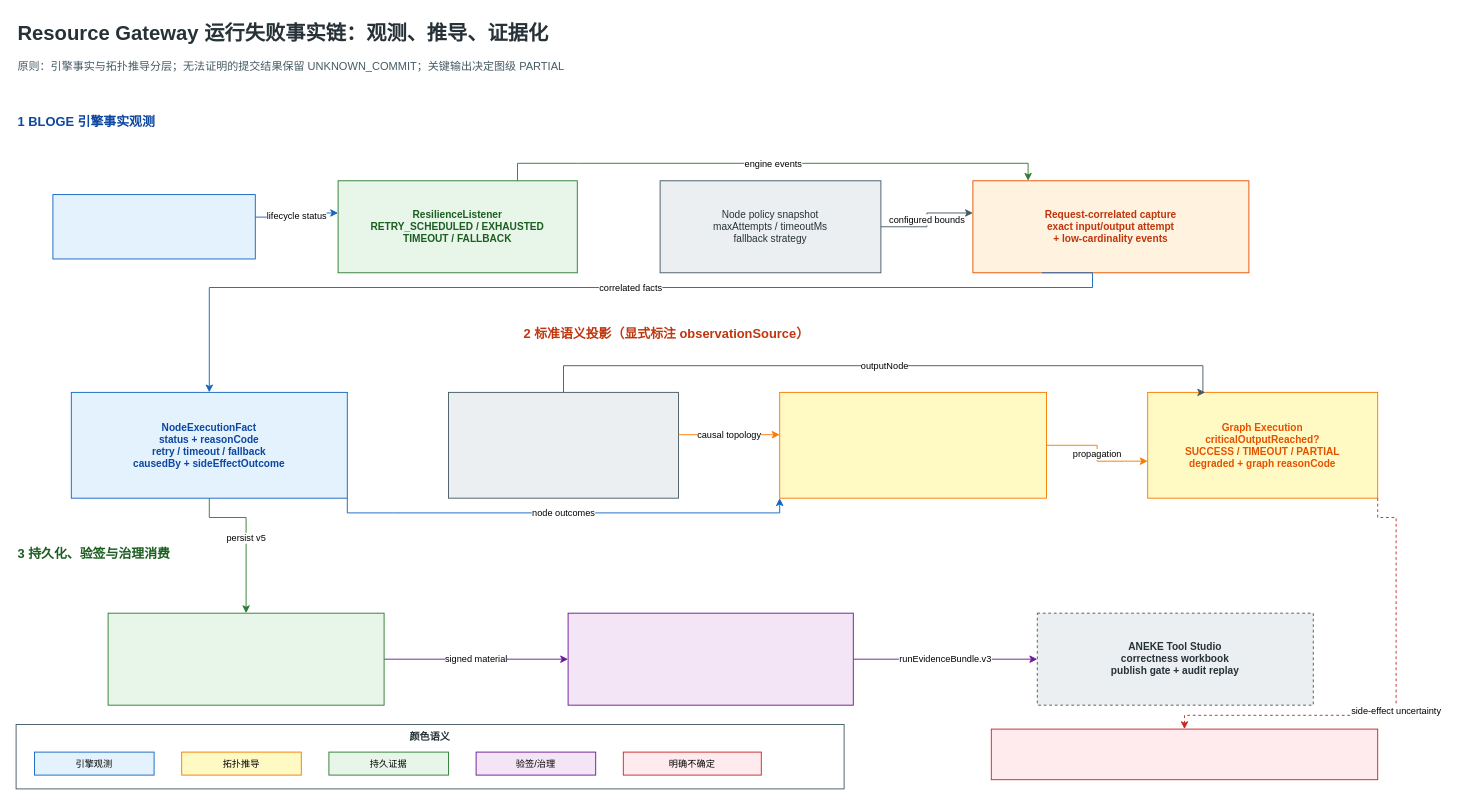
Some shapes in this 1457 by 805 pixel diagram are drawn without their labels. Here are the shapes that lost their labels. From the top down, the centre of each, then its label:
At (x=153, y=226): "BLOGE GraphEngine NodeStatus + GraphResult".
At (x=563, y=444): "Immutable topology snapshot nodes / edges / outputNode".
At (x=912, y=444): "EdgeEvidence propagated? + reasonCode 不把 target timeout 冒充 edge timeout".
At (x=245, y=658): "VisualGraphRunRecord v5 sanitized payload + facts immutable material fingerprint".
At (x=710, y=658): "EvidenceManifest fact/input/output coverage signature VERIFIED or QUARANTINED".
At (x=1184, y=754): "UNKNOWN_COMMIT 外部副作用缺少提交确认时保留不确定性".
